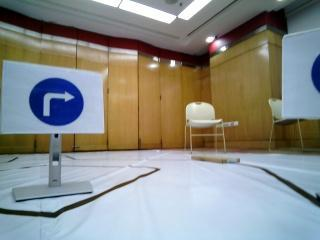right: (6, 62, 104, 135)
